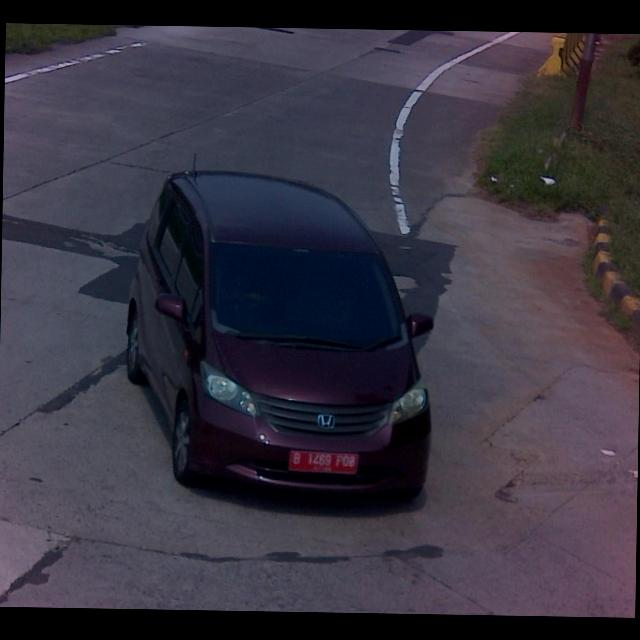plate: (286, 448, 363, 475)
